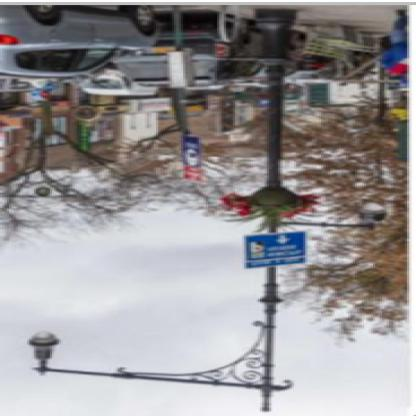Streetlights 1: (13, 9, 367, 413)
